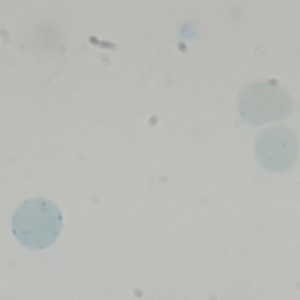punctate reticulocyte: (10, 197, 64, 251), (236, 81, 295, 127), (252, 124, 300, 174)
